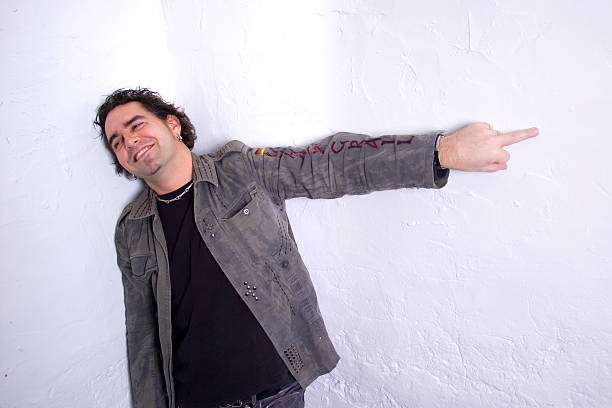insulting_gesture: (444, 119, 540, 174)
